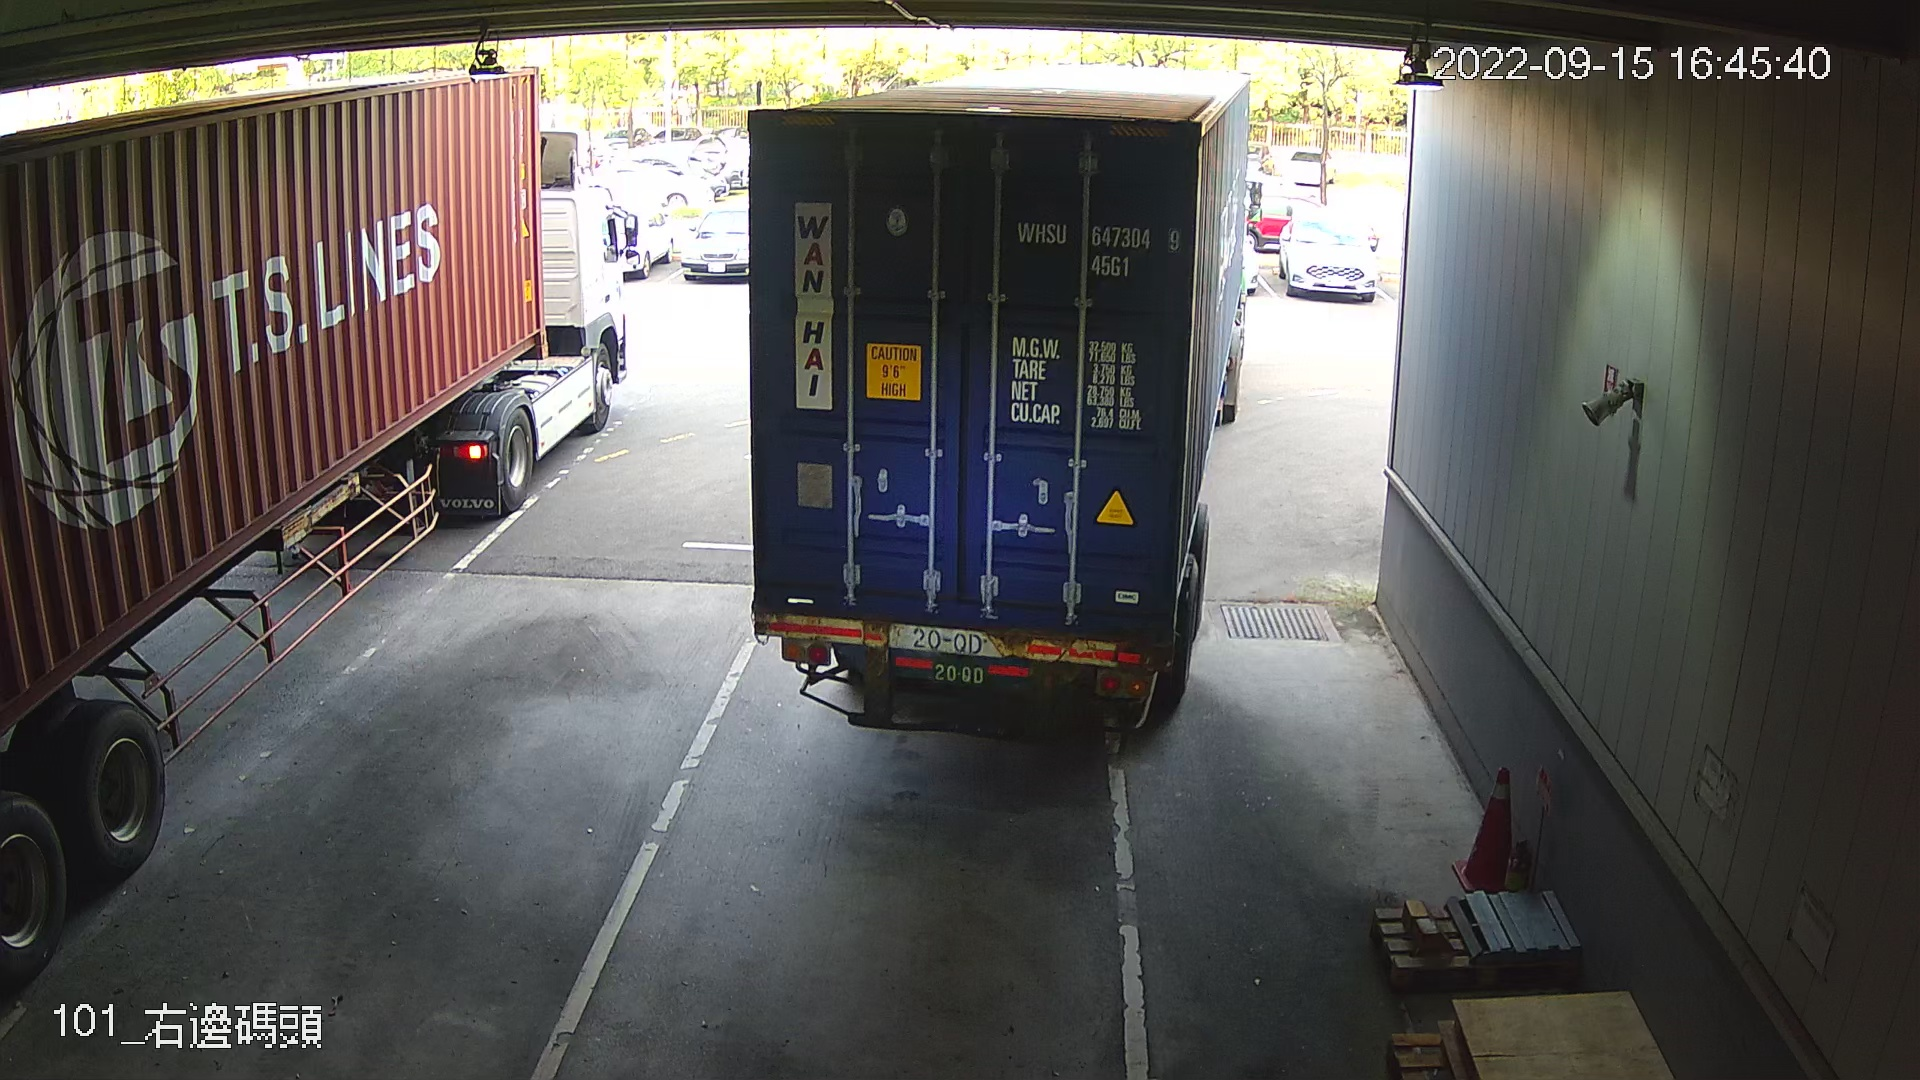container: (1009, 214, 1185, 284)
